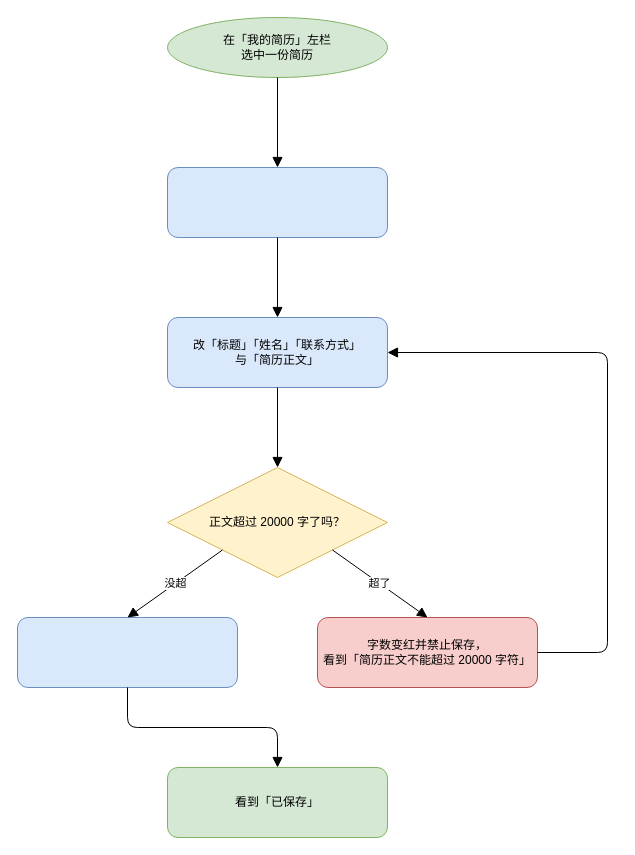
Some shapes in this 635 by 855 pixel diagram are drawn without their labels. The centre of each missing label's shape, as x and y in pixels:
点「保存修改」: the point at 127,652
点右侧的「编辑」: the point at 277,202
